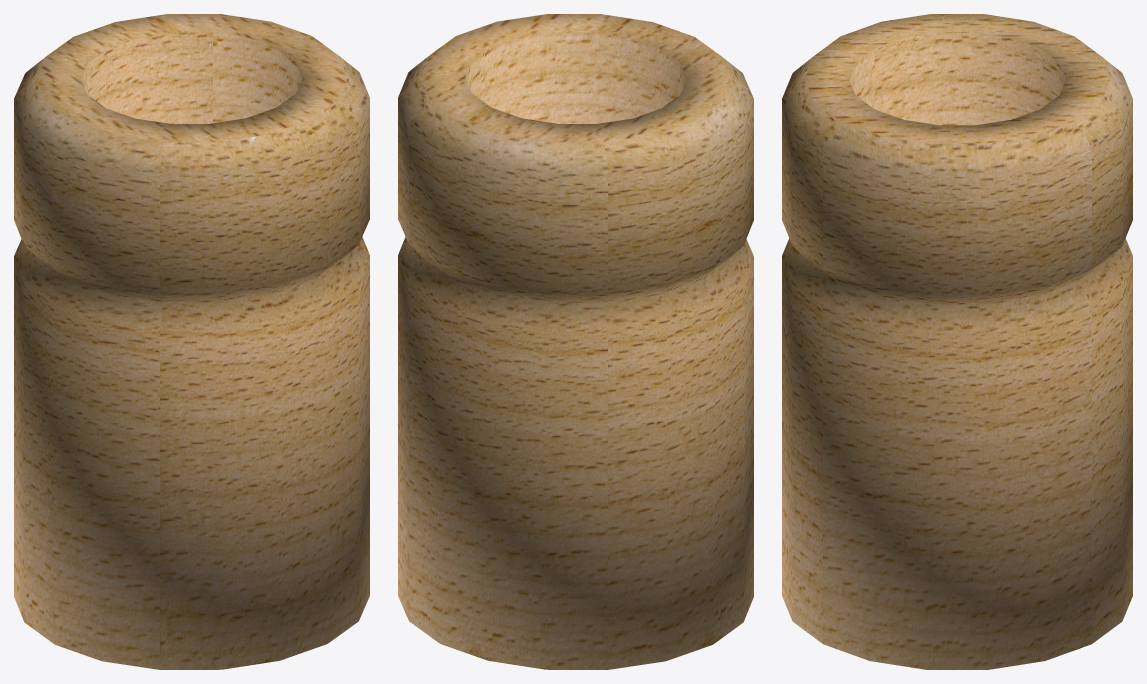
The model's file is Koma_C_So_C1.fbx.
The picture shows the model from 3 angles, left to right: view 1: azimuth 30°, elevation 25°; view 2: azimuth 150°, elevation 25°; view 3: azimuth 270°, elevation 25°; orthographic projection.
Parts seen in each view (by area): view 1: Koma_C_So_C1; view 2: Koma_C_So_C1; view 3: Koma_C_So_C1.
Part boxes in pixels (x1,y1,x2,y2): Koma_C_So_C1: (14, 14, 369, 669); Koma_C_So_C1: (398, 14, 753, 669); Koma_C_So_C1: (782, 14, 1132, 669).
Bounding box in the file's own units: 1.6 × 2.6 × 1.6.
Materials: 1 (1 with a texture image).
